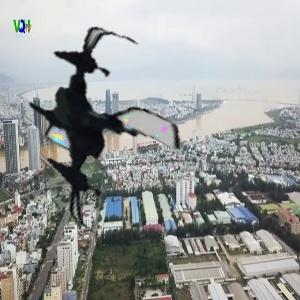drone: (2, 32, 192, 222)
